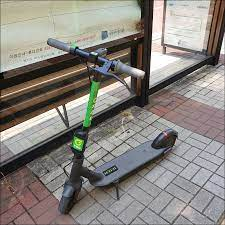kick_board: (46, 38, 179, 214)
kick_handler: (49, 38, 146, 83)
kick_neck: (67, 82, 98, 174)
kick_wheel: (58, 181, 84, 214), (155, 130, 178, 153)
